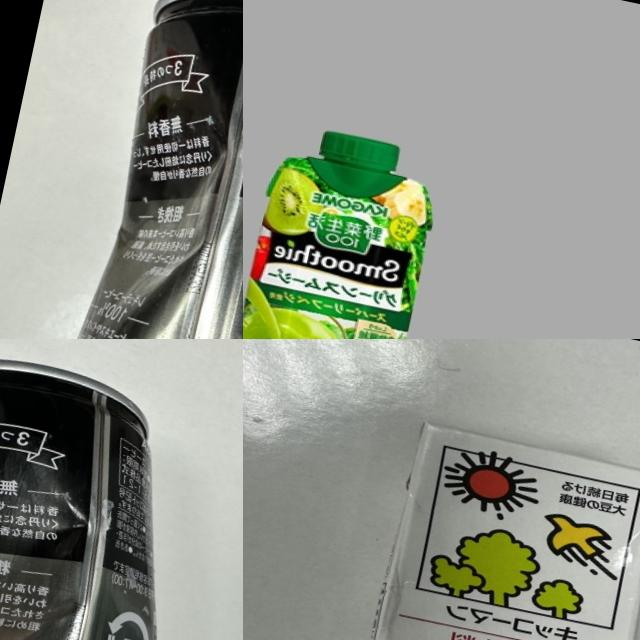Aluminium Foil: (335, 413, 640, 640), (243, 111, 448, 339)
Can: (46, 0, 243, 339), (0, 341, 204, 640)
